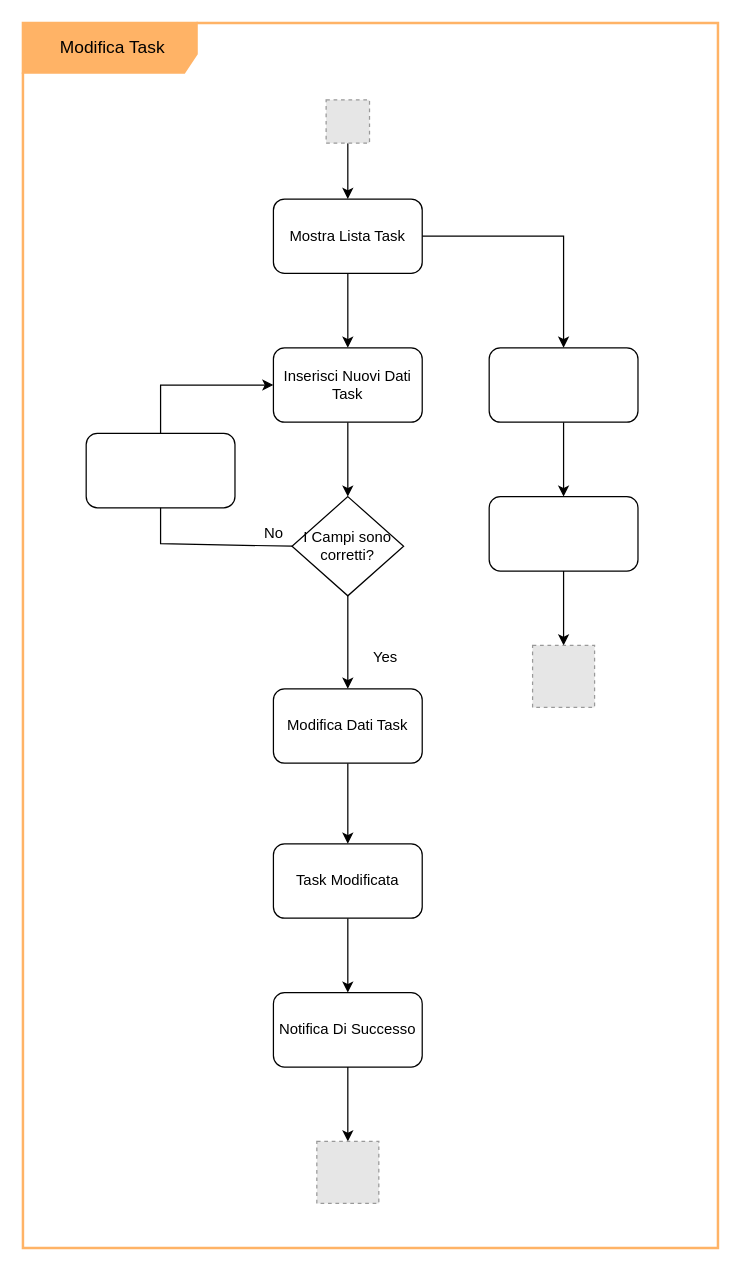
Image size: 740x1270. Some labels were removed from this diagram. Grey dashed boxes stand in for pictures. Here are the shapes that lost their labels. From the top down, the box of each, then its label:
(488, 347, 638, 422): Completa Task
(85, 432, 235, 508): Notifica dati errati
(488, 495, 638, 571): Spunta di conferma
